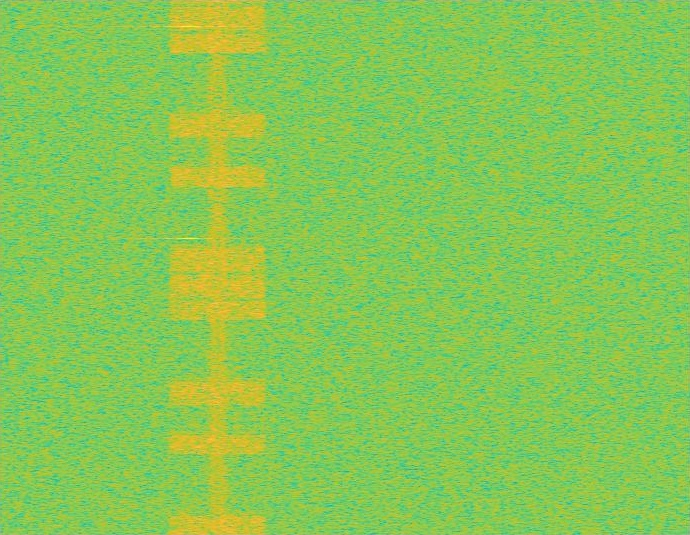DSSS: (206, 0, 230, 534)
LTE: (166, 0, 270, 534)
Radar: (182, 0, 196, 534)
